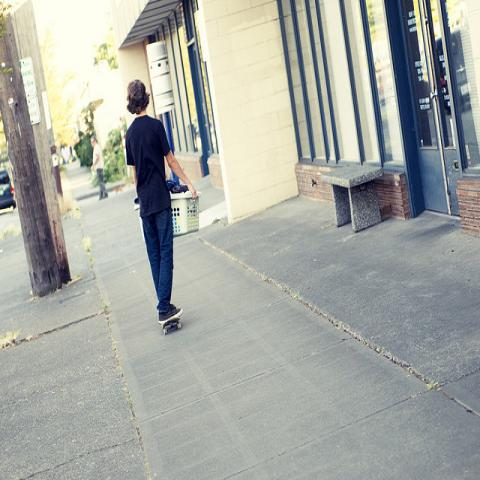car: (0, 169, 17, 209)
